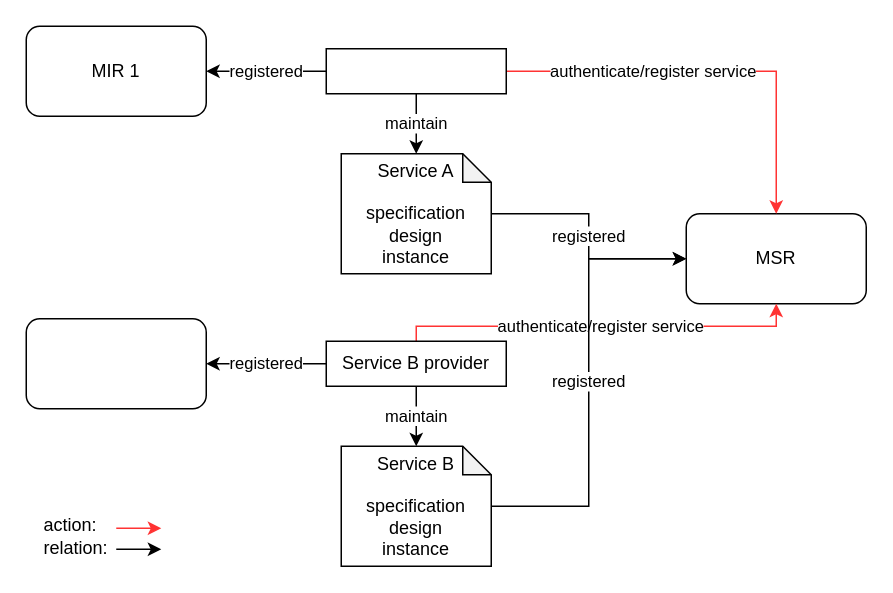
Some shapes in this 893 by 593 pixel diagram are drawn without their labels. The shapes that lost their labels are listed below. From the top down, each one's centre as x and y in pixels, then its label:
[415,70]: Service A provider
[115,363]: MIR 2
